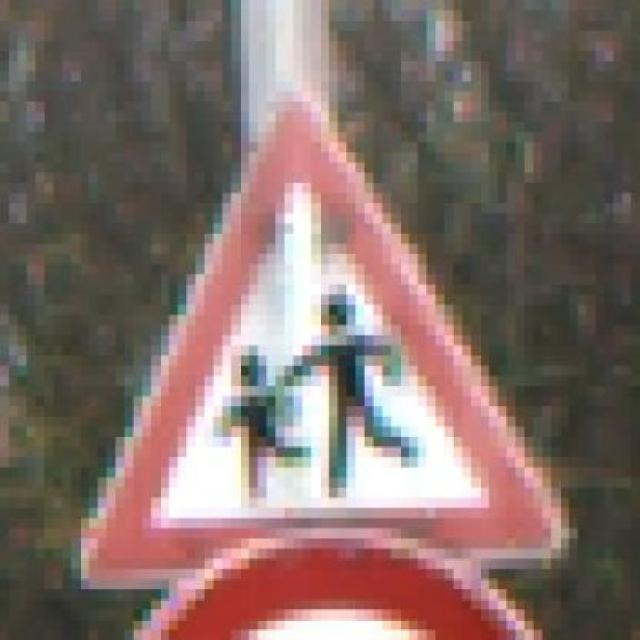Beware of children: (53, 78, 578, 585)
